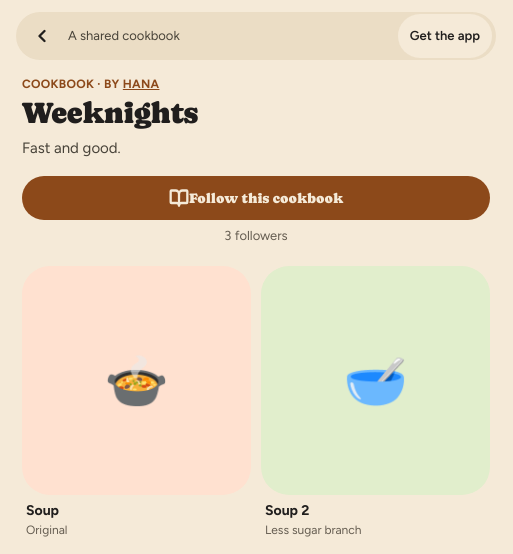
Test: CookbookPage › follows and unfollows verified, moving the count
Click the button "Follow this cookbook". click: (256, 198)
box: [22,176,490,220]
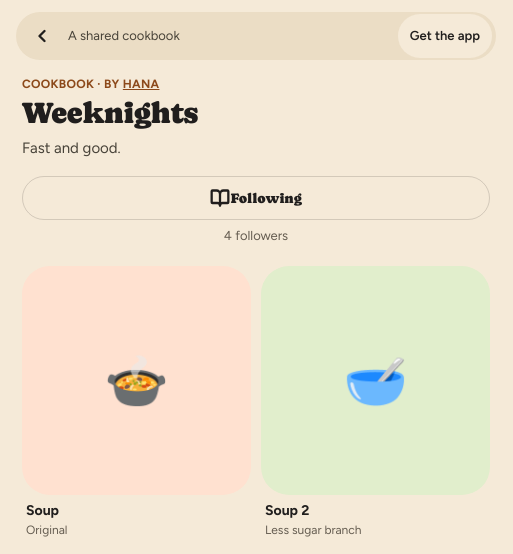
Check: the button "Following" is shown
Check: the text "4 followers" is shown, box [224,228,288,243]
Click the button "Following". click: (256, 198)
box: [22,176,490,220]
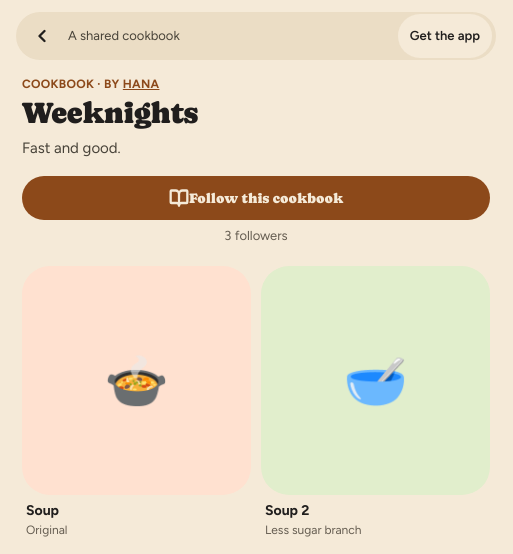
Check: the text "3 followers" is shown, box [224,228,288,243]
